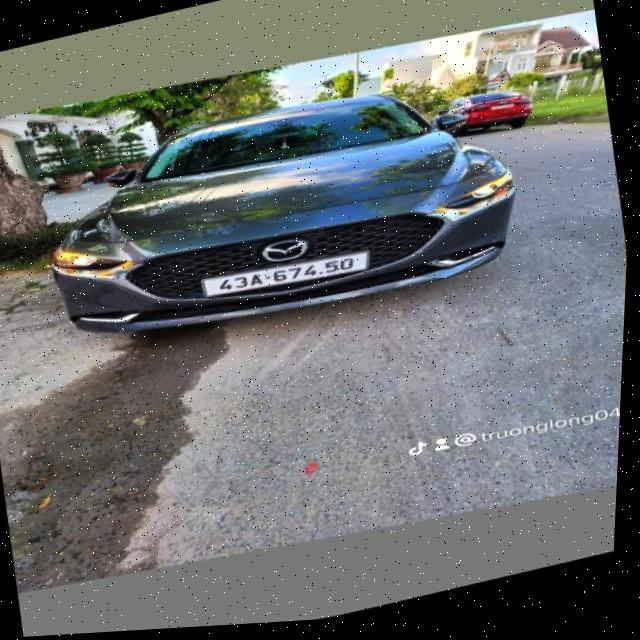car: (30, 44, 543, 377), (427, 71, 544, 150)
plate: (194, 236, 380, 317)
